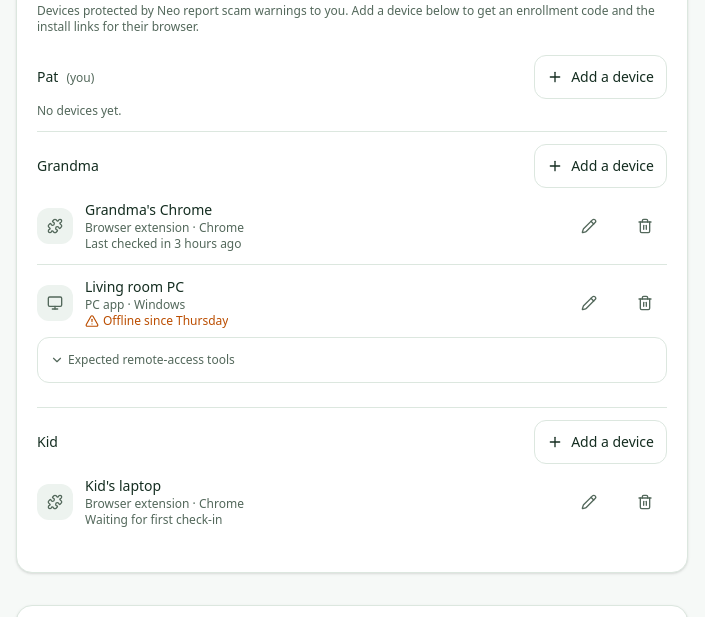
HouseholdSettingsView expected remote-access tools (_specs/signals.md) › shows an inline error for an invalid peer ID and does not save it
(page scrolled)
Step 1. Click the heading "Expected remote-access tools" → (142, 360), box [50,351,235,368]
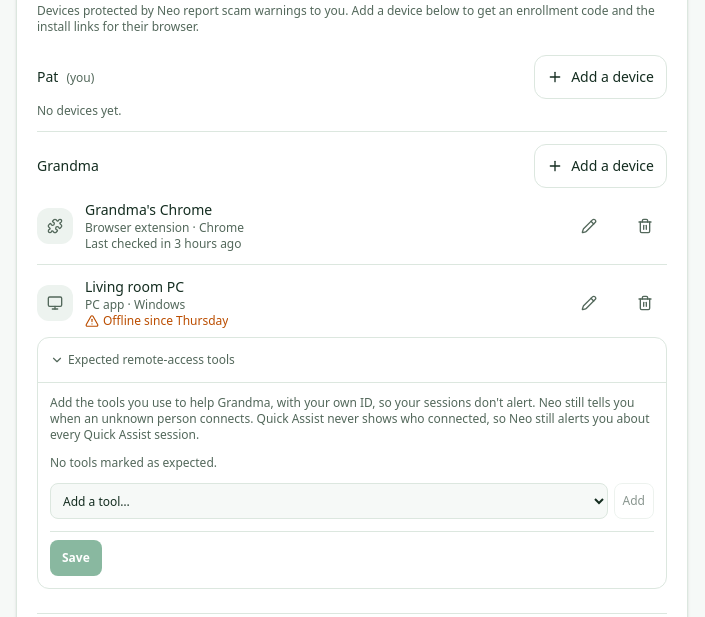
Step 2. Select "AnyDesk" in the dropdown named "Add an expected tool" → (329, 501), box [50,483,608,519]
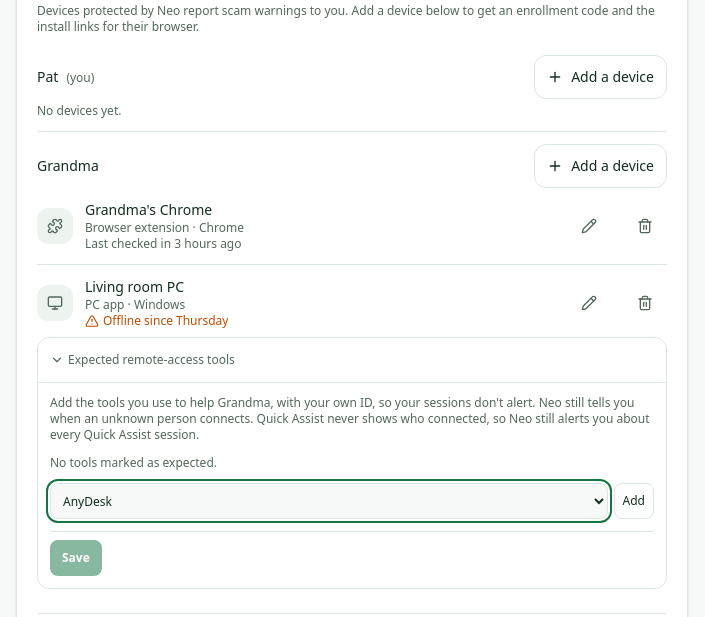
Step 3. Click the button "Add" → (634, 501), box [614,483,654,519]
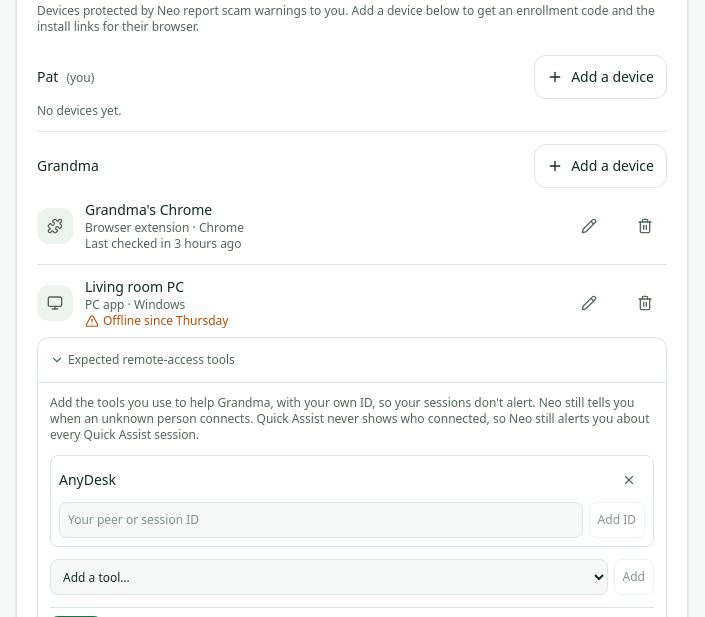
Step 4. Type "bad id!" into the field named "Peer ID for AnyDesk" → (321, 520), box [59,502,583,538]
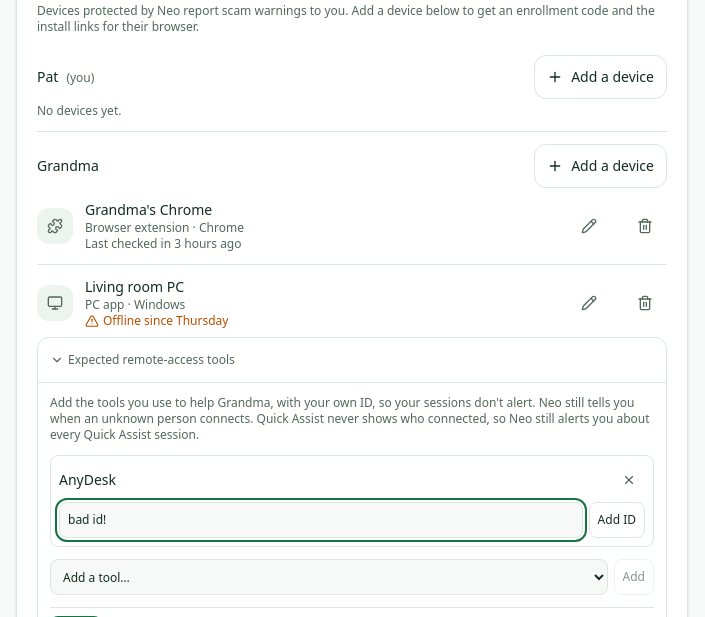
Step 5. Click the button "Add ID" → (617, 520), box [589,502,645,538]
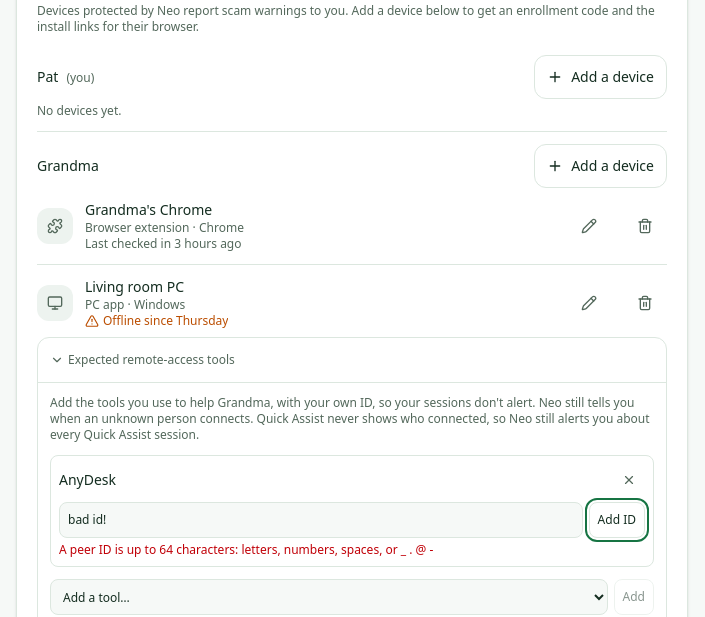
Check: the message shows "letters, numbers", box [59,541,433,558]
